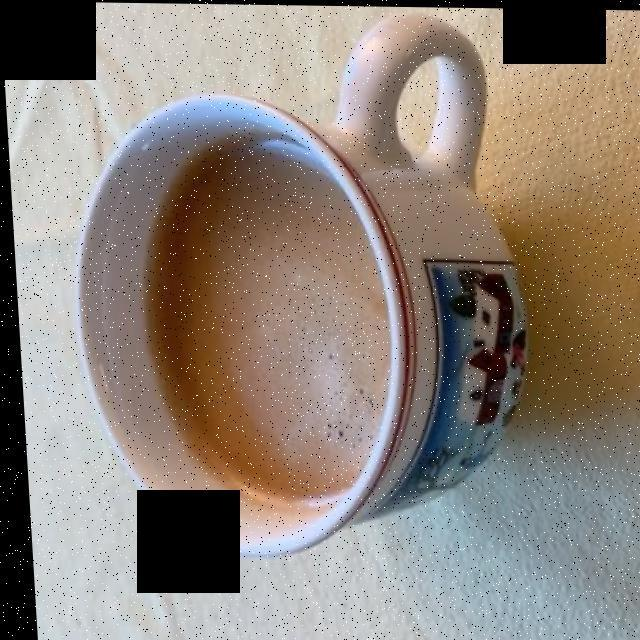coffee: (151, 139, 384, 498)
